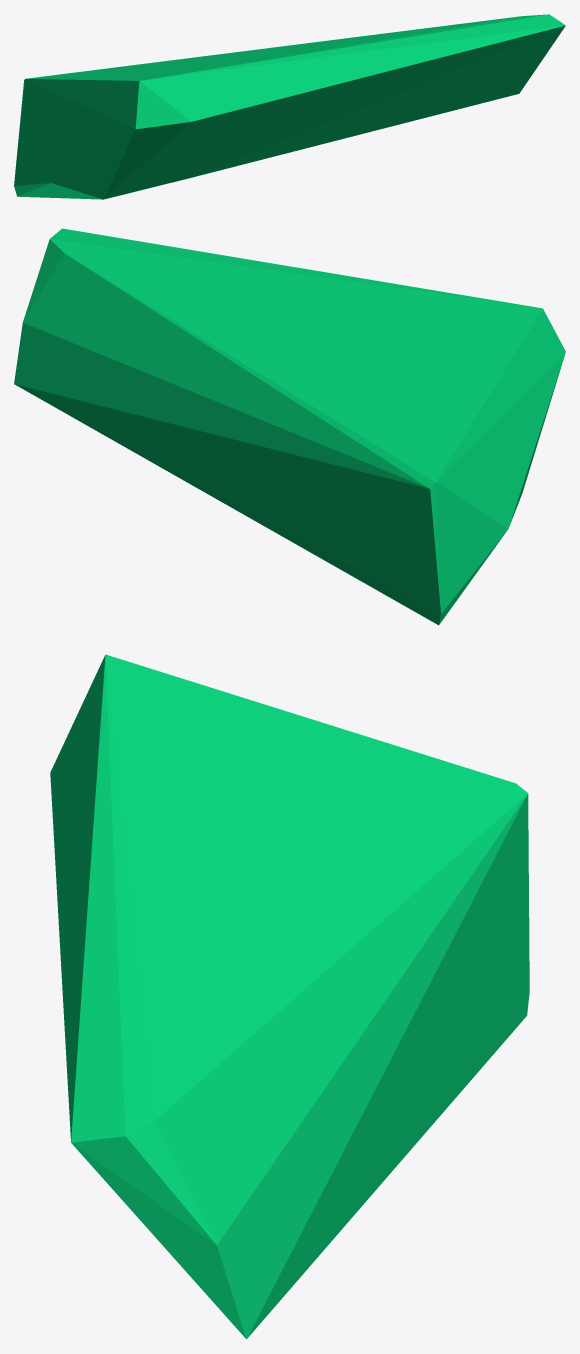
Rendered from arm-L1-mirror_convex_piece_003.obj.
3 views of the same model, one above another, from view 1: azimuth 30°, elevation 25°; view 2: azimuth 150°, elevation 25°; view 3: azimuth 270°, elevation 25° (orthographic). The views are drawn at different scales.
Size of the model in its own units: 0.0539 by 0.0217 by 0.025.
